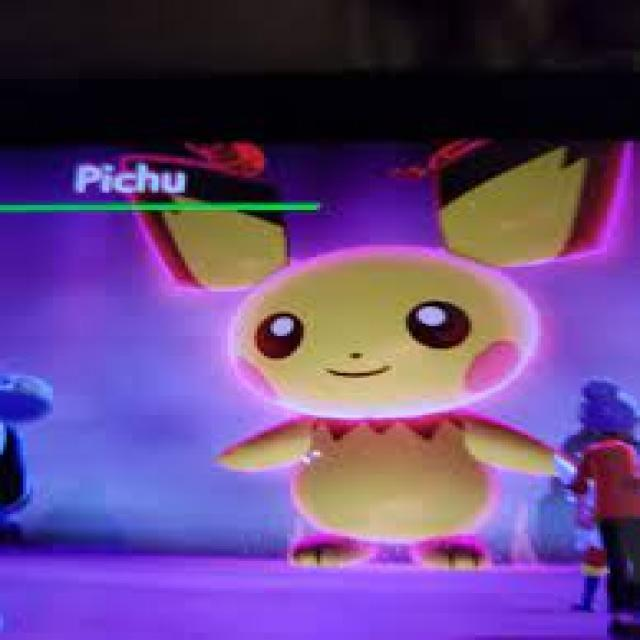pichu: (142, 148, 618, 581)
